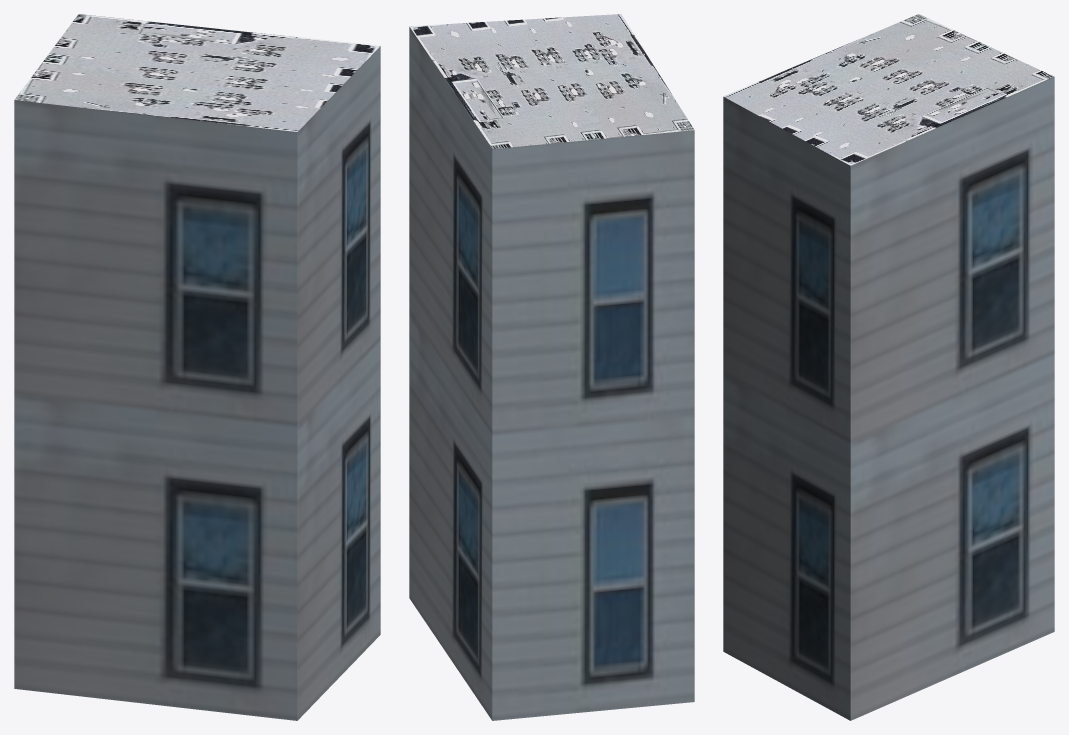
Rendered from ResTex__3544.fbx.
3 renders of one model, left to right at view 1: azimuth 30°, elevation 25°; view 2: azimuth 150°, elevation 25°; view 3: azimuth 270°, elevation 25°, orthographic. The views are drawn at different scales.
Visible parts, largest first — view 1: CityEngineMaterial_18_m, CityEngineMaterial_4_m; view 2: CityEngineMaterial_18_m, CityEngineMaterial_4_m; view 3: CityEngineMaterial_18_m, CityEngineMaterial_4_m.
Part boxes in pixels (<box>): CityEngineMaterial_18_m: <box>14,46,380,720</box>; CityEngineMaterial_4_m: <box>14,14,379,131</box>; CityEngineMaterial_18_m: <box>409,27,694,720</box>; CityEngineMaterial_4_m: <box>409,14,694,148</box>; CityEngineMaterial_18_m: <box>723,77,1054,720</box>; CityEngineMaterial_4_m: <box>723,14,1054,165</box>.
Bounding box in the file's own units: 3.52 × 6 × 3.25.
2 materials, 2 textured.
